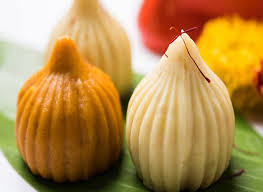modak: (1, 27, 135, 190), (117, 12, 237, 192)
